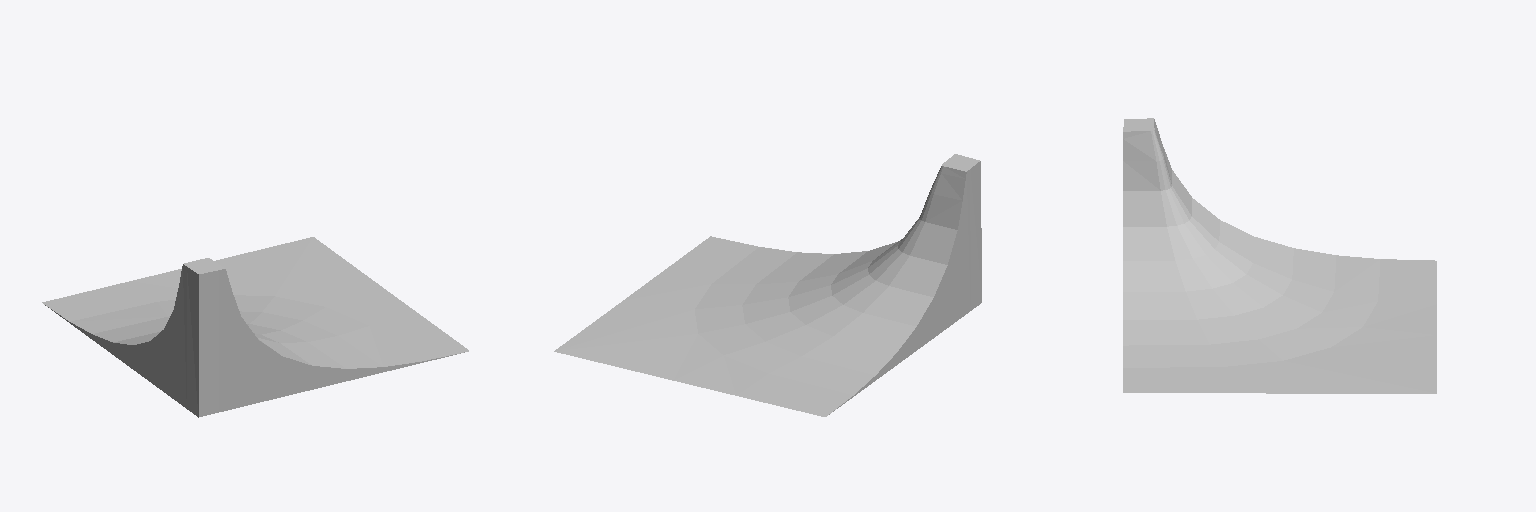
Rendered from Quater_LRG_Corner.obj.
3 views of the same model, side by side, from view 1: azimuth 30°, elevation 25°; view 2: azimuth 150°, elevation 25°; view 3: azimuth 270°, elevation 25° (orthographic).
Visible parts, largest first — view 1: Quater_LRG_Corner; view 2: Quater_LRG_Corner; view 3: Quater_LRG_Corner.
Part boxes in pixels (x1,y1,x2,y2): Quater_LRG_Corner: (42,237,468,417); Quater_LRG_Corner: (554,154,981,416); Quater_LRG_Corner: (1123,118,1436,393).
Size of the model in its own units: 20 by 10.02 by 20.